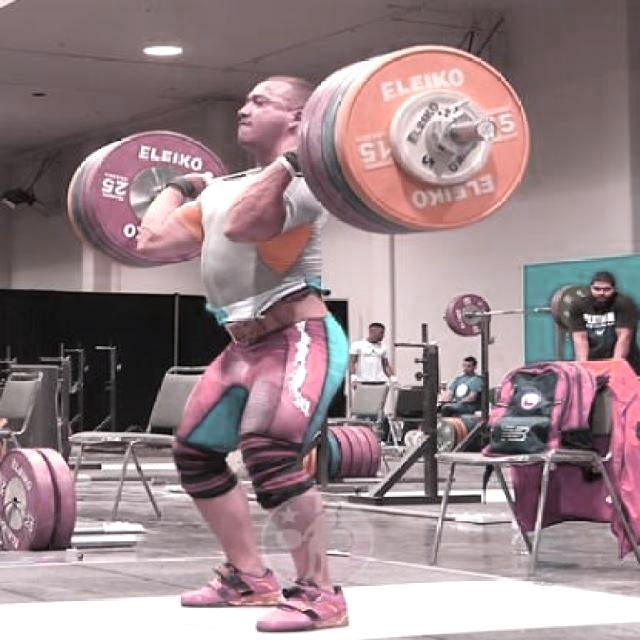barbell: (287, 40, 555, 236)
